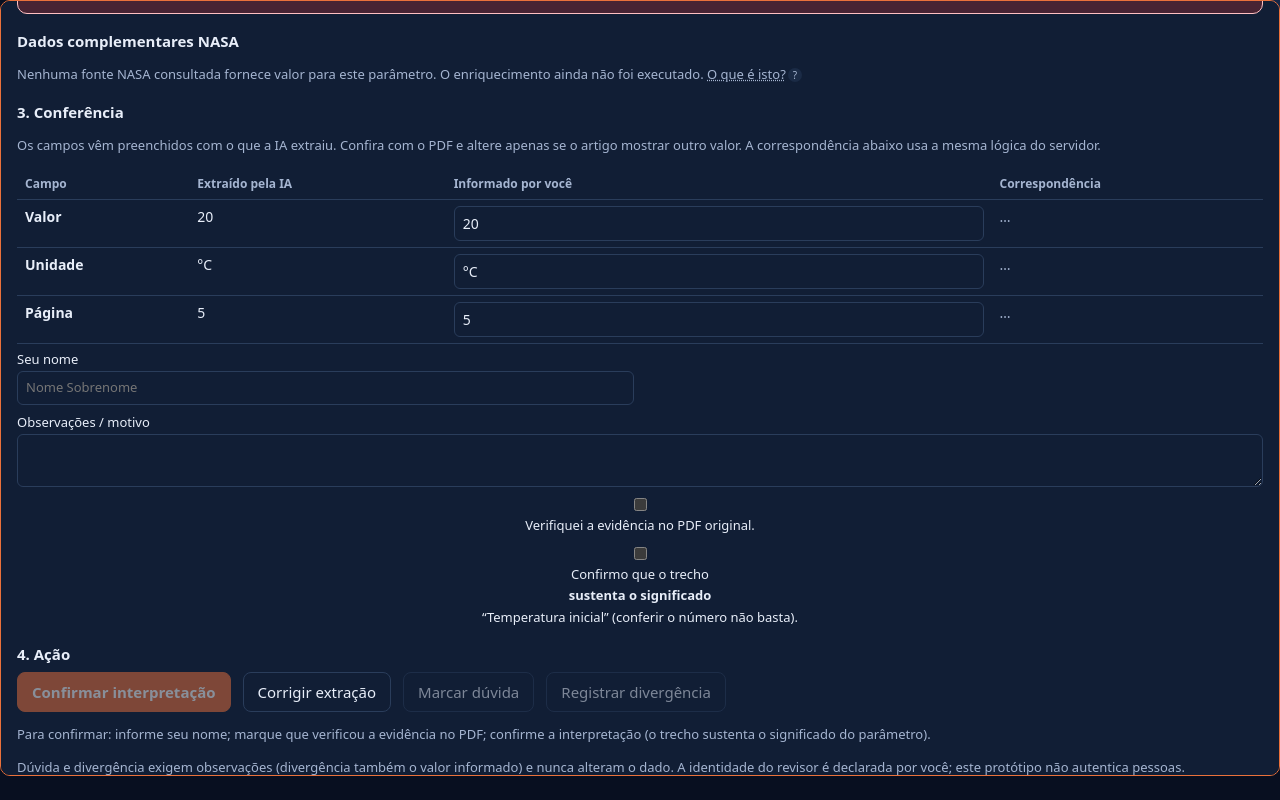
Test: C. conferência assistida (sem redigitar) › ambiguidade científica bloqueia a confirmação mesmo com o número conferido
This screenshot has width=1280, height=800.
(page scrolled)
Type "Ana Souza" into the field labelled "Seu nome" at (326, 388), box x1=17 y1=371 x2=634 y2=404
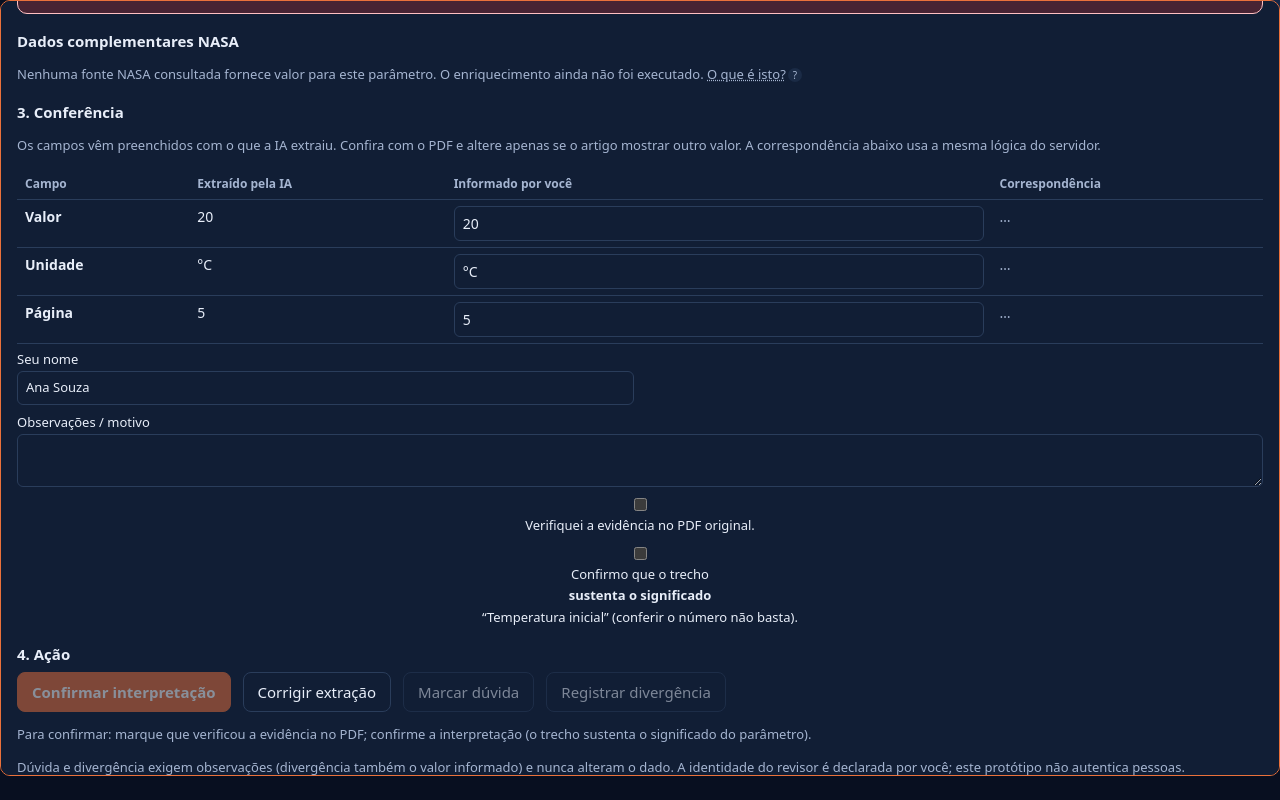
Click the checkbox labelled "Verifiquei a evidência no PDF original." at (640, 504), box x1=634 y1=498 x2=647 y2=511
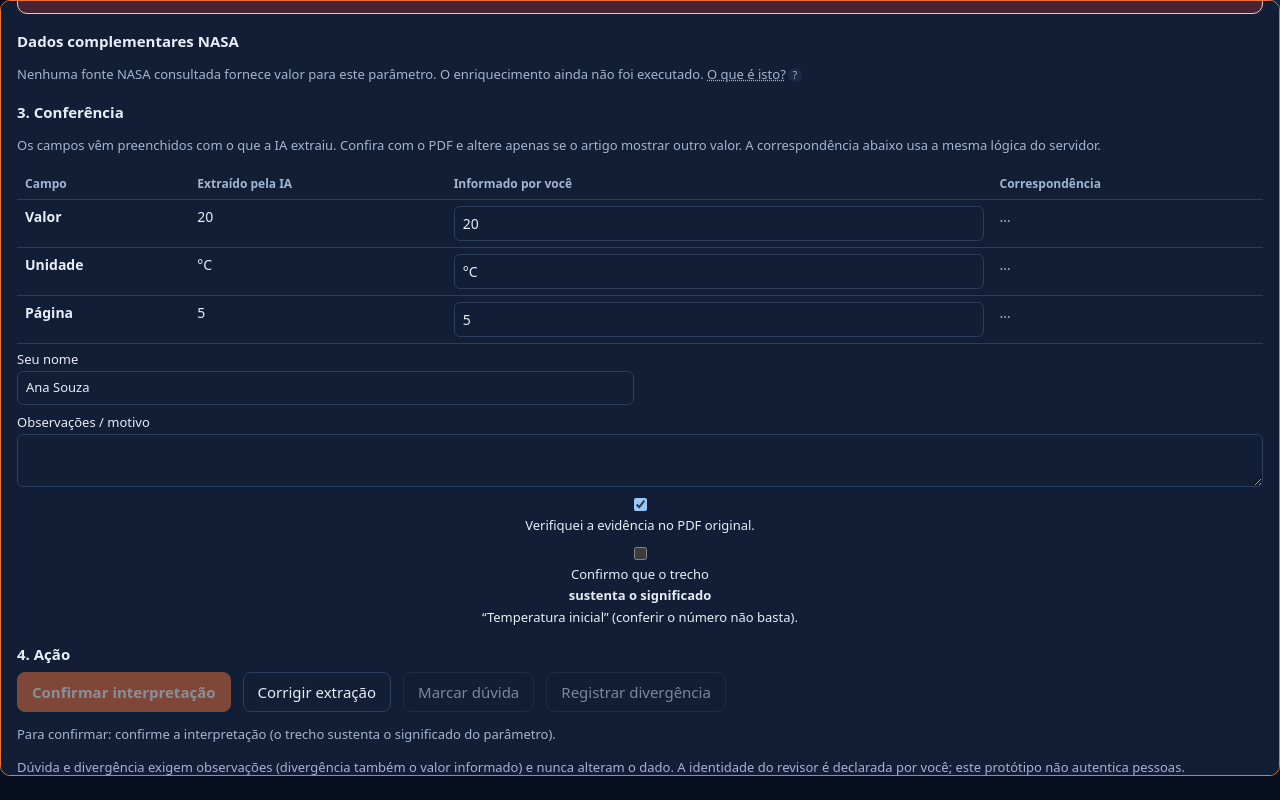
Click the checkbox labelled "Confirmo que o trecho" at (640, 553), box x1=634 y1=546 x2=647 y2=560
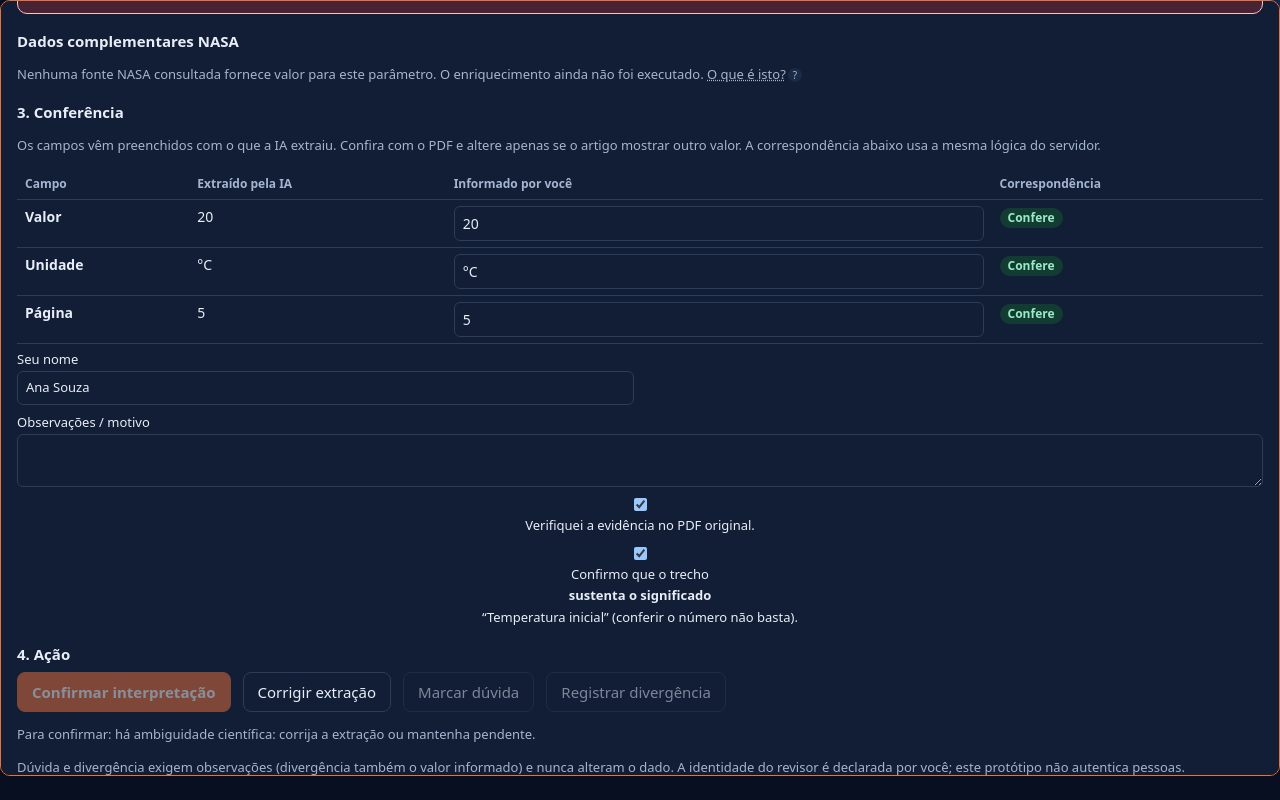
expect the button "Confirmar interpretação" is disabled: met, box x1=17 y1=672 x2=230 y2=712
expect the text "Confere" is shown 3 times: met, box x1=1000 y1=208 x2=1062 y2=228; x1=1000 y1=256 x2=1062 y2=276; x1=1000 y1=304 x2=1062 y2=324
expect the text "há ambiguidade científica" is shown: met, box x1=115 y1=725 x2=532 y2=743
